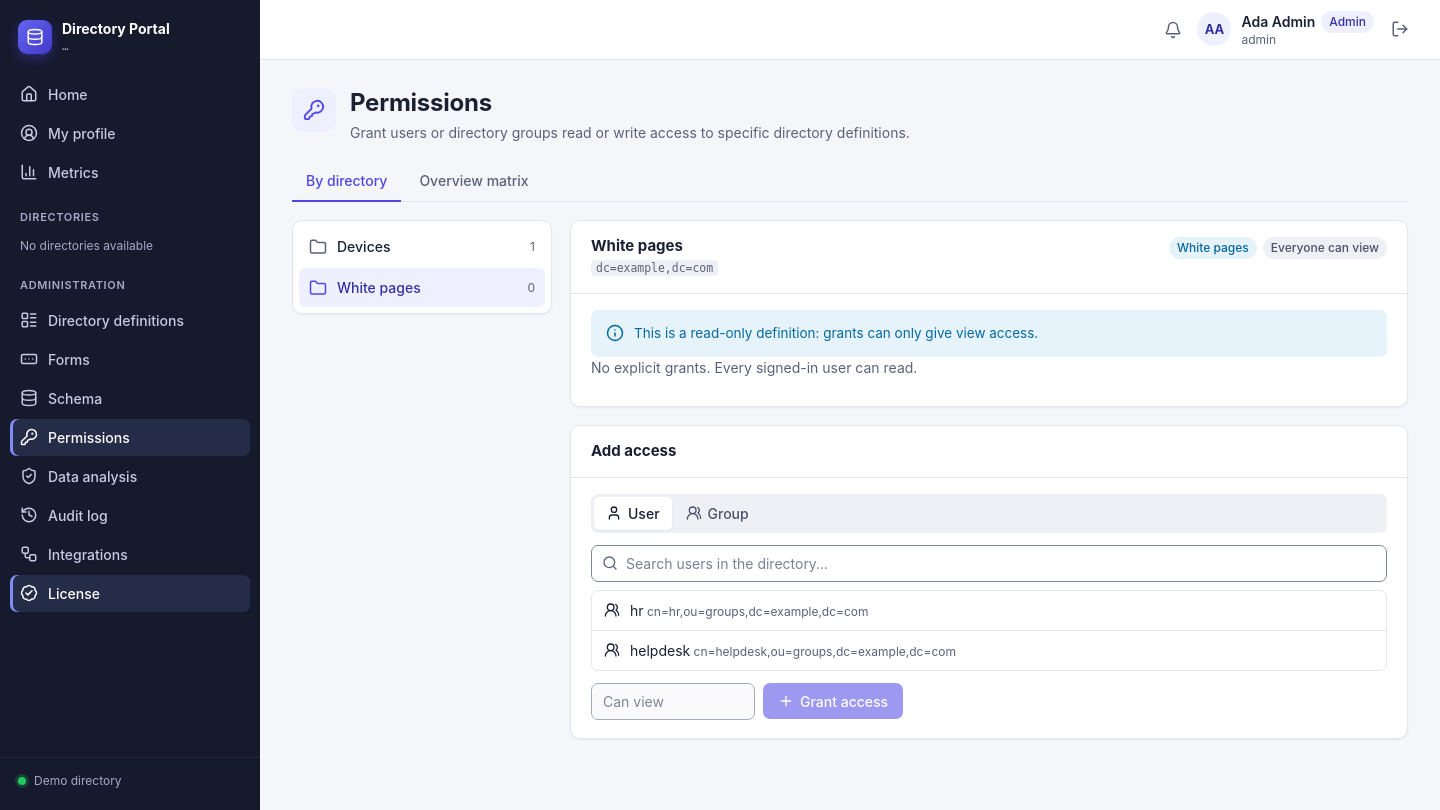
Test case: permissions page › only grants view access on a white-pages directory
The width and height of the screenshot is (1440, 810).
Expected: the text "This is a read-only definition: grants can only give view access." is shown, [634,323,1038,344]
Expected: the dropdown named "Access level" is disabled, [591,683,755,720]
Click the radio button labelled "Group". click: [717, 513]
box: [674,497,761,530]
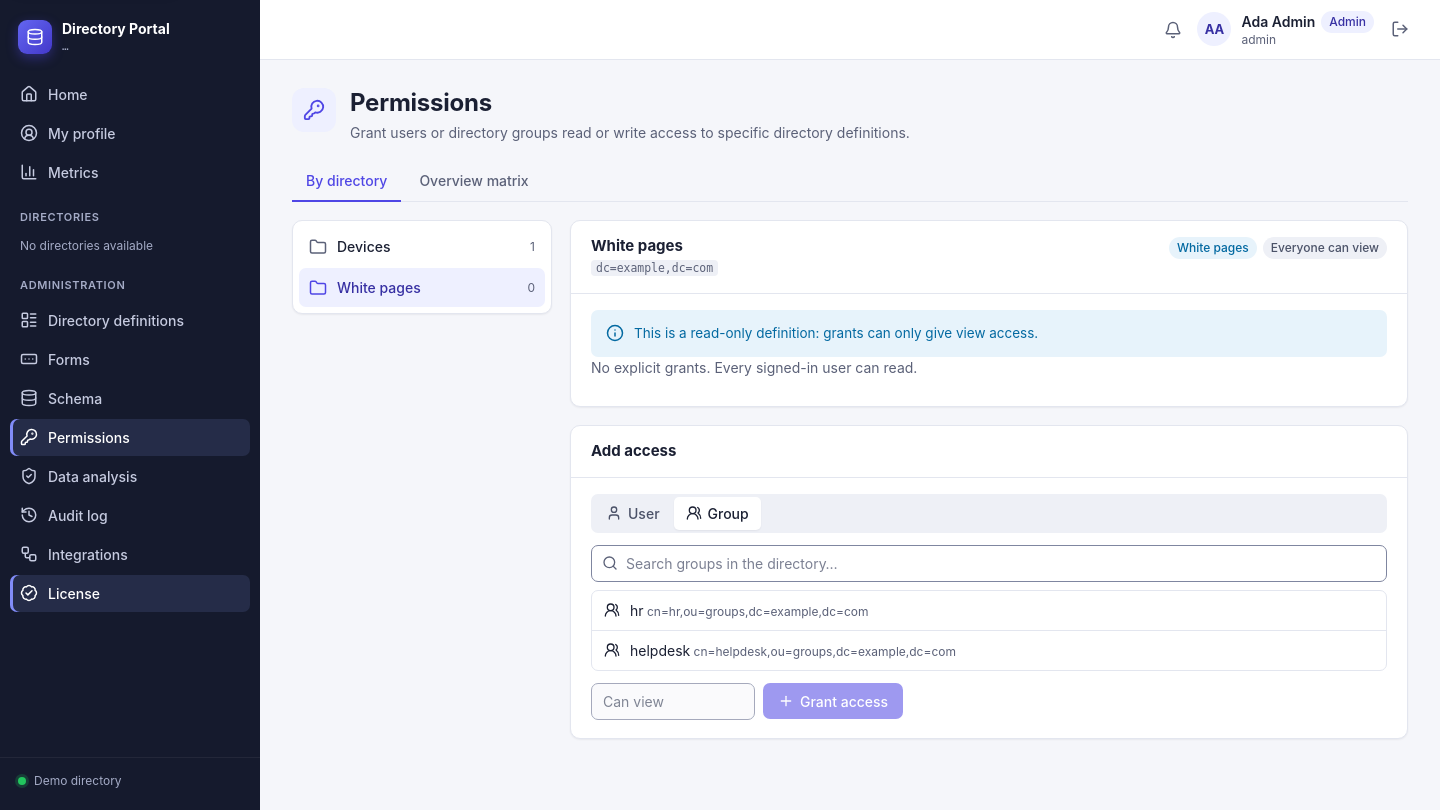
Type "h" into the field labelled "Search groups". click: [989, 563]
box: [591,545,1387,582]
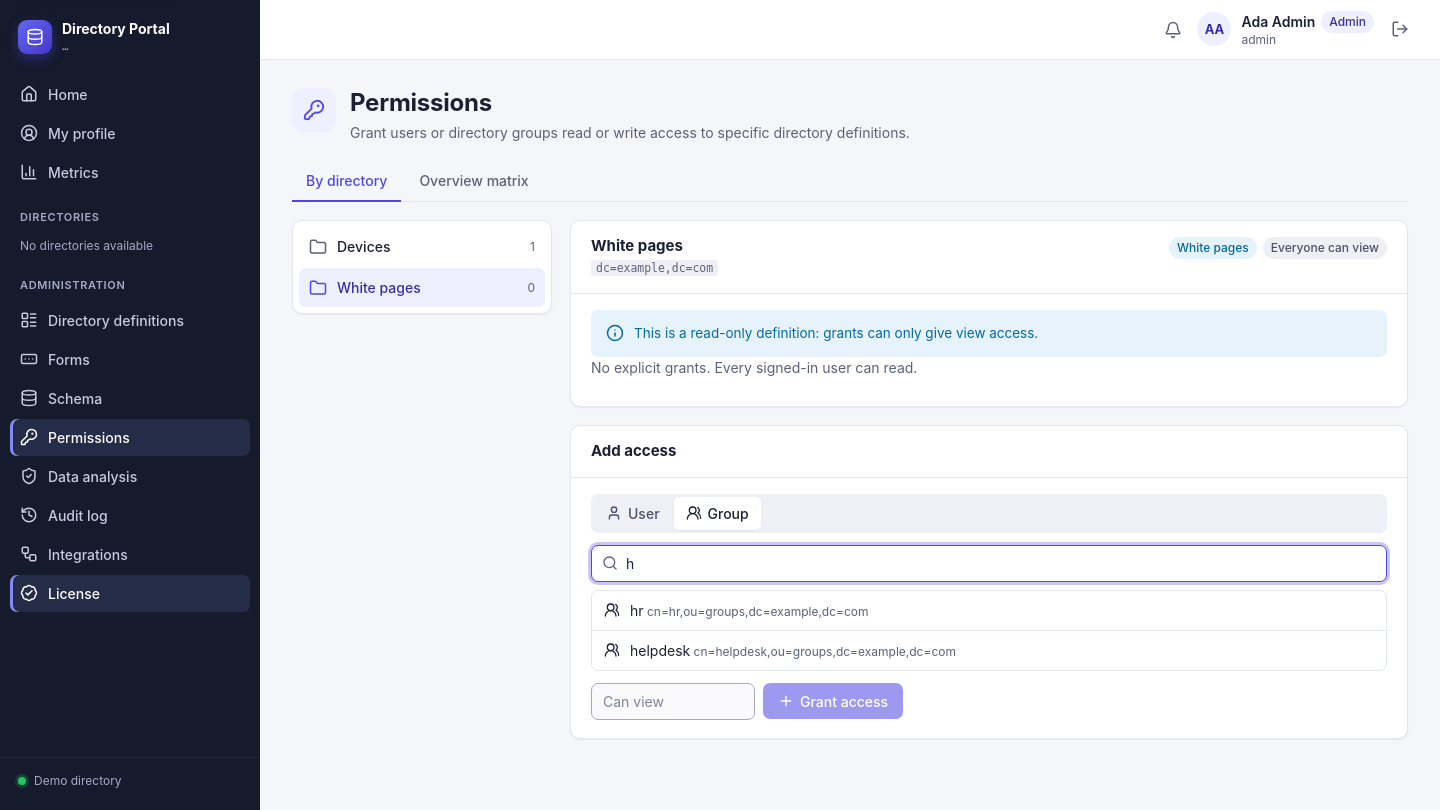
Click the button named "Group hr". click: [758, 611]
box: [592,591,1386,630]
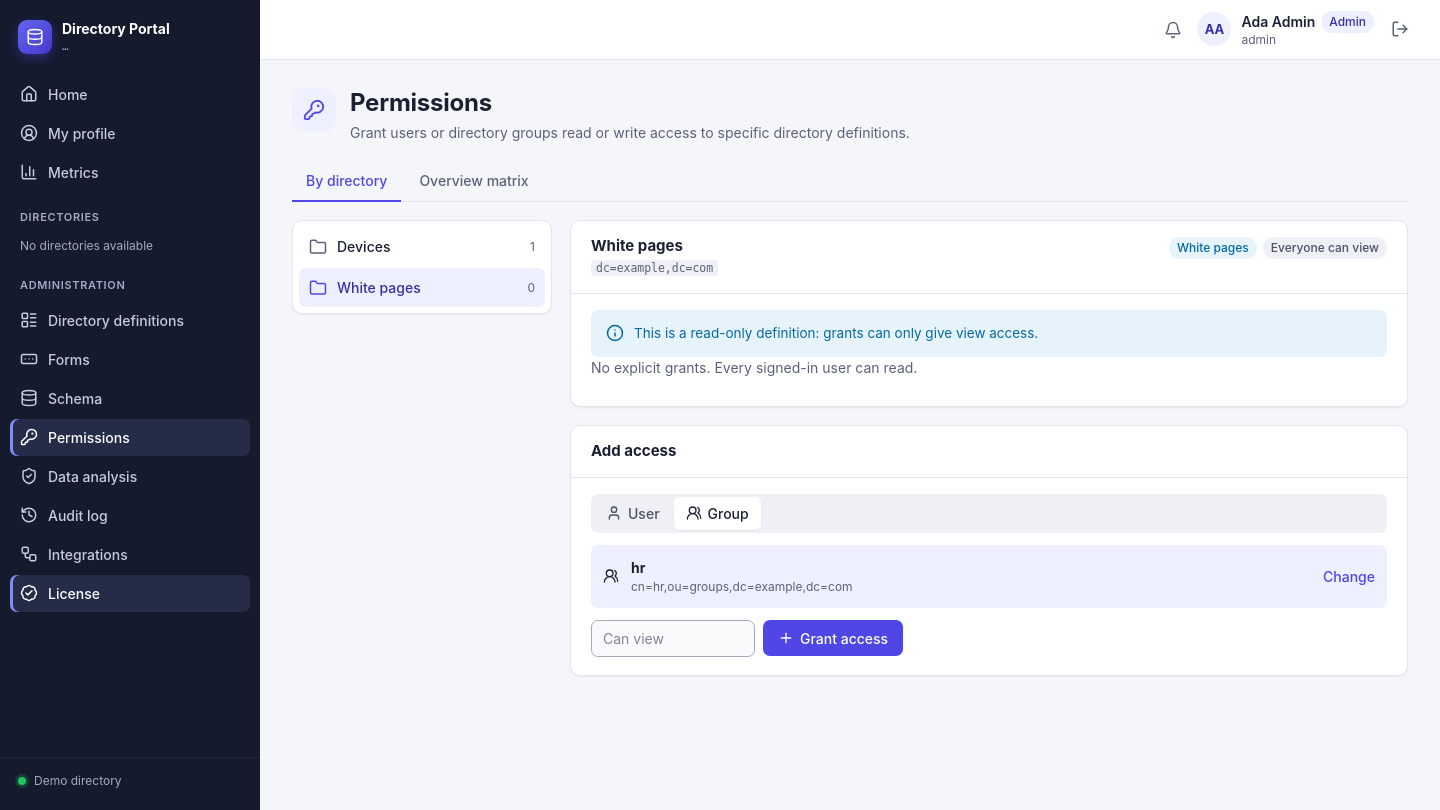
Click the button "Grant access". click: [833, 638]
box: [763,620,903,656]
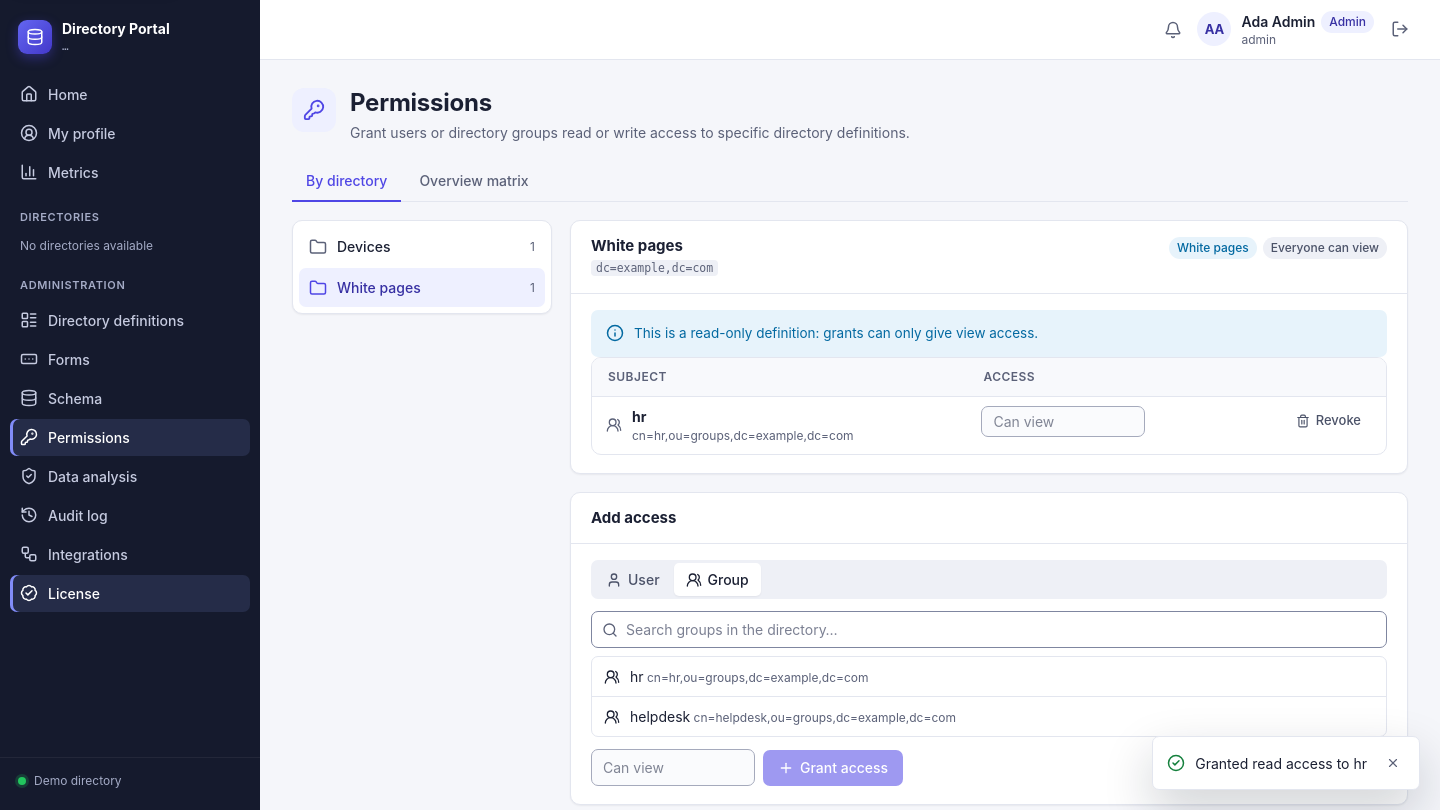
Now the text "Granted read access to hr" is shown, box [1195,752,1367,774]
